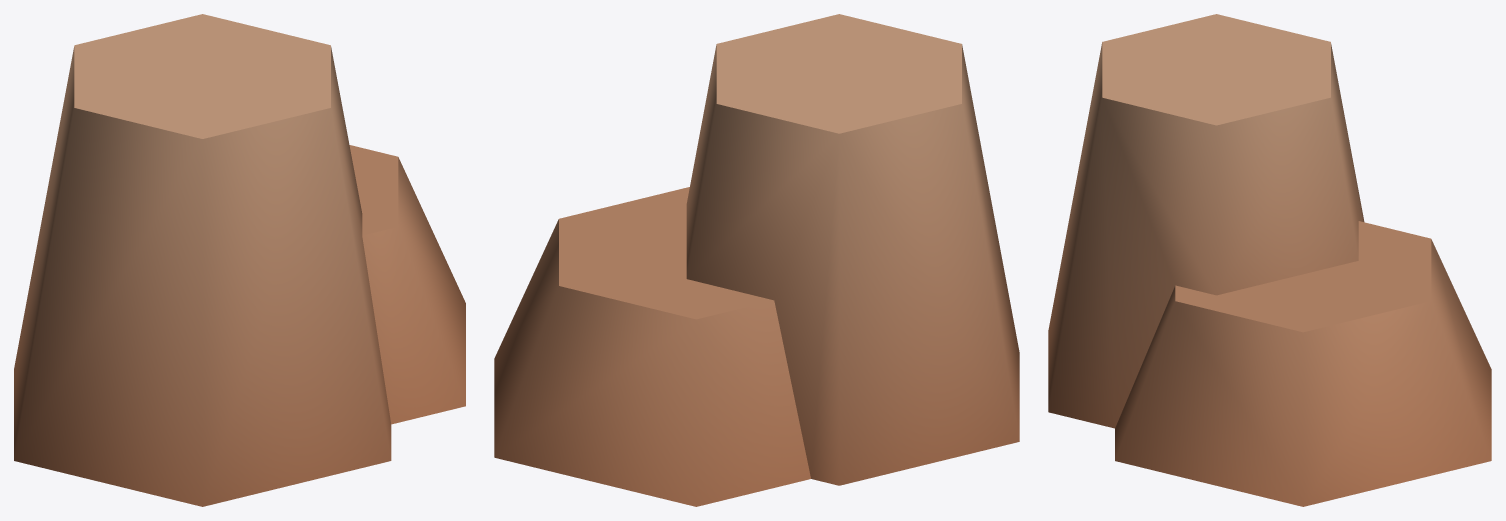
File: survival-resource-stone.glb
The picture shows the model from 3 angles, left to right: view 1: azimuth 30°, elevation 25°; view 2: azimuth 150°, elevation 25°; view 3: azimuth 270°, elevation 25°; orthographic projection. The views are drawn at different scales.
Visible parts, largest first — view 1: survival-resource-stone; view 2: survival-resource-stone; view 3: survival-resource-stone.
Part boxes in pixels (x1,y1,x2,y2): survival-resource-stone: (14, 14, 465, 506); survival-resource-stone: (494, 14, 1019, 506); survival-resource-stone: (1048, 14, 1491, 506).
Bounding box in the file's own units: 0.1653 × 0.1068 × 0.1422.
